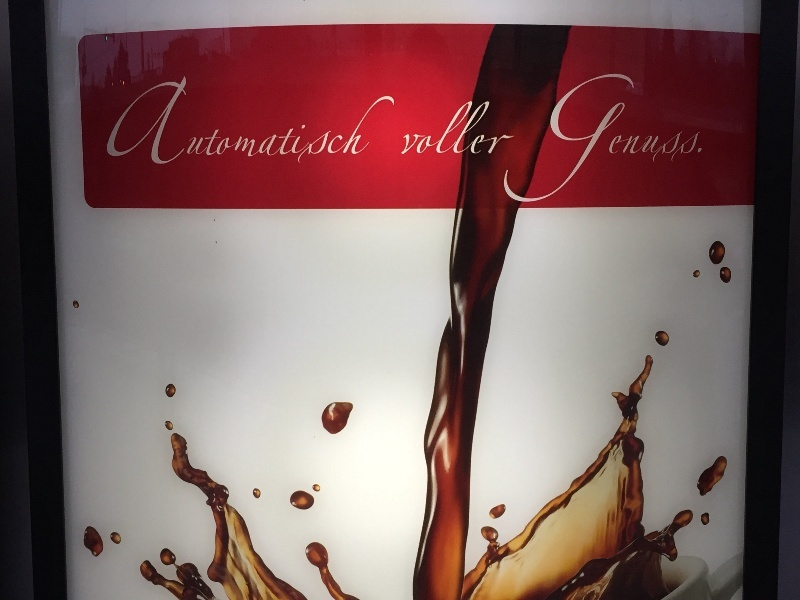text: (529, 72, 544, 203), (545, 72, 560, 203), (561, 72, 576, 203), (577, 72, 592, 203), (593, 72, 608, 203), (609, 72, 624, 203), (625, 72, 640, 203), (641, 72, 656, 203), (657, 72, 672, 203), (673, 72, 688, 203), (689, 72, 704, 203), (113, 75, 128, 174), (129, 75, 144, 174), (145, 75, 160, 174), (161, 75, 176, 174), (177, 75, 188, 174), (193, 93, 208, 164), (209, 93, 224, 164), (225, 93, 240, 164), (241, 93, 256, 164), (257, 93, 272, 164), (273, 93, 288, 164), (289, 93, 304, 164), (305, 93, 320, 164), (321, 93, 336, 164), (337, 93, 352, 164), (353, 93, 368, 164), (369, 93, 384, 164), (385, 93, 397, 164), (417, 100, 432, 156), (433, 100, 448, 156), (449, 100, 464, 156), (465, 100, 480, 156), (481, 100, 496, 156), (497, 100, 512, 156), (705, 72, 710, 203), (513, 100, 524, 156), (410, 100, 416, 156), (526, 72, 528, 203), (190, 93, 192, 164)
